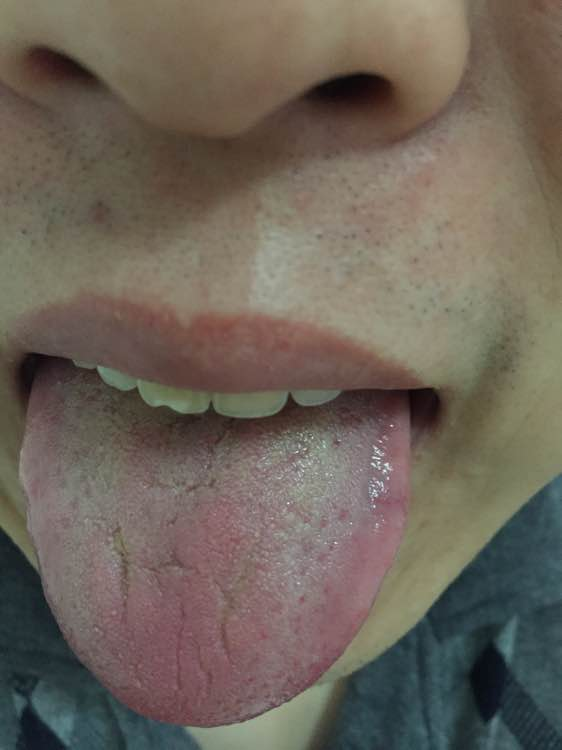baitaishe: (18, 356, 409, 730)
hongdianshe: (297, 592, 308, 607)
liewenshe: (219, 621, 239, 666)
